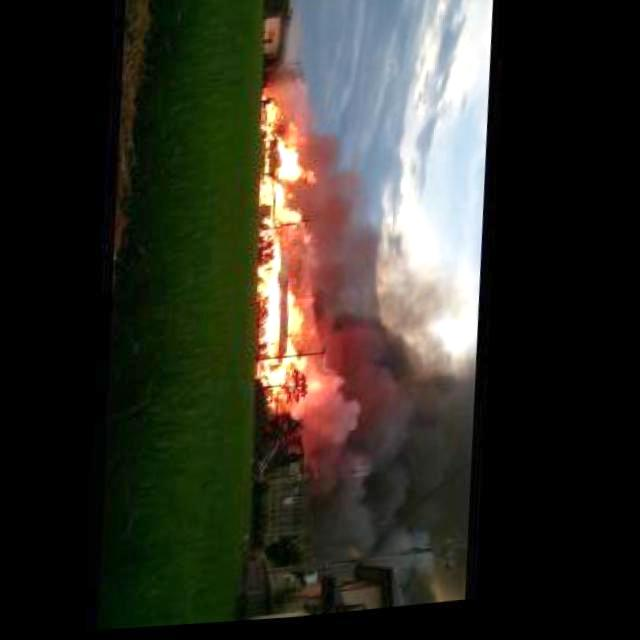fire: (294, 129, 502, 491), (245, 84, 347, 412)
